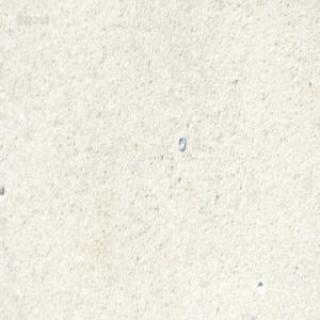Washertrack_idkeyframe: (177, 134, 184, 150)
